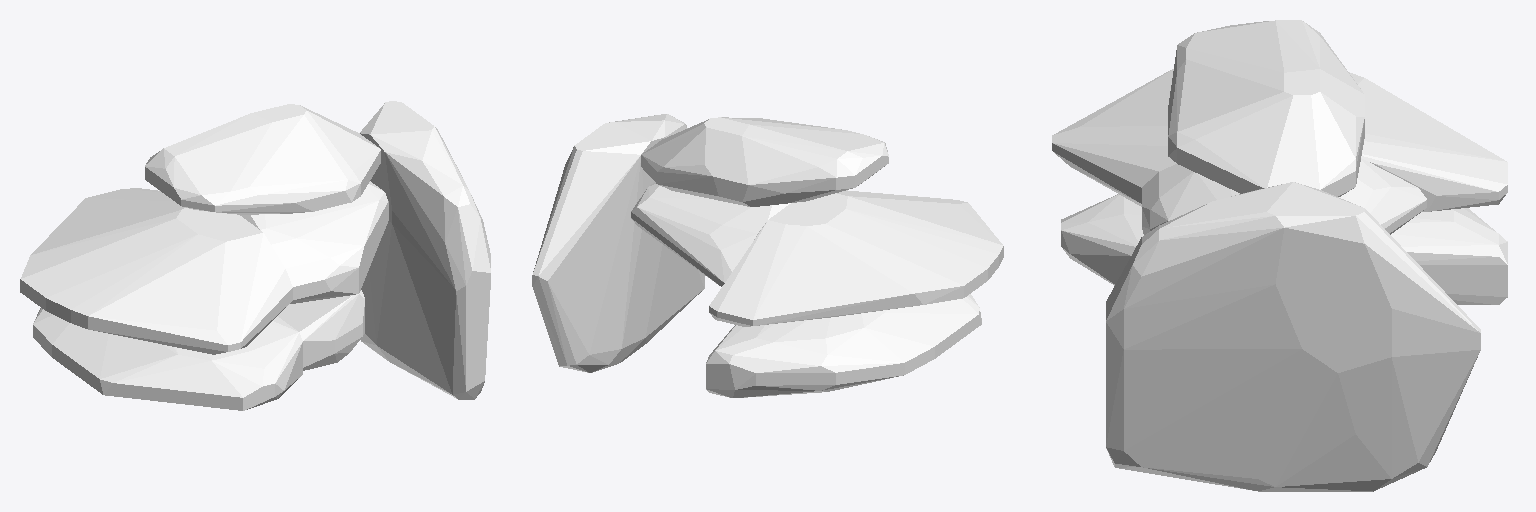
robot.urdf — four.urdf:
<?xml version="1.0" ?>
<robot name="four.urdf">
  <link name="baseLink">
    <inertial>
      <origin rpy="0 0 0" xyz="0 0 0"/>
       <mass value="0.0"/>
       <inertia ixx="0" ixy="0" ixz="0" iyy="0" iyz="0" izz="0"/>
    </inertial>
    <visual>
      <origin rpy="0 0 0" xyz="0 0 0"/>
      <geometry>
        <mesh filename="four.obj" scale="1.0 1.0 1.0"/>
      </geometry>
      <material name="white">
       <color rgba="1 1 1 1"/>
     </material>
    </visual>
    <collision>
      <origin rpy="0 0 0" xyz="0 0 0"/>
      <geometry>
        <mesh filename="four.obj" scale="1.0 1.0 1.0"/>
        <!-- You could also specify the collision (for the four) with a "box" tag: -->
        <!-- <box size=".06 .06 .06"/> -->
      </geometry>
    </collision>
  </link>
</robot>
        

--- What the picture shows (computed from the rendered views, not written in the file) ---
Views: 3 orthographic renders of the robot side by side, from view 1: azimuth 30°, elevation 25°; view 2: azimuth 150°, elevation 25°; view 3: azimuth 270°, elevation 25°.
Robot: four.urdf — 1 links, 0 joints (none); root link baseLink; default pose: every joint at zero.
Visible links, largest first — view 1: baseLink; view 2: baseLink; view 3: baseLink.
Boxes of the visible links, <box> form: baseLink: <box>20,101,490,410</box>; baseLink: <box>532,114,1003,397</box>; baseLink: <box>1052,20,1507,491</box>.
Size in the robot's own frame: 0.1331 by 0.1061 by 0.0853 metres.
Meshes: 1 distinct files referenced, 1 mesh visuals loaded (1 OBJ).